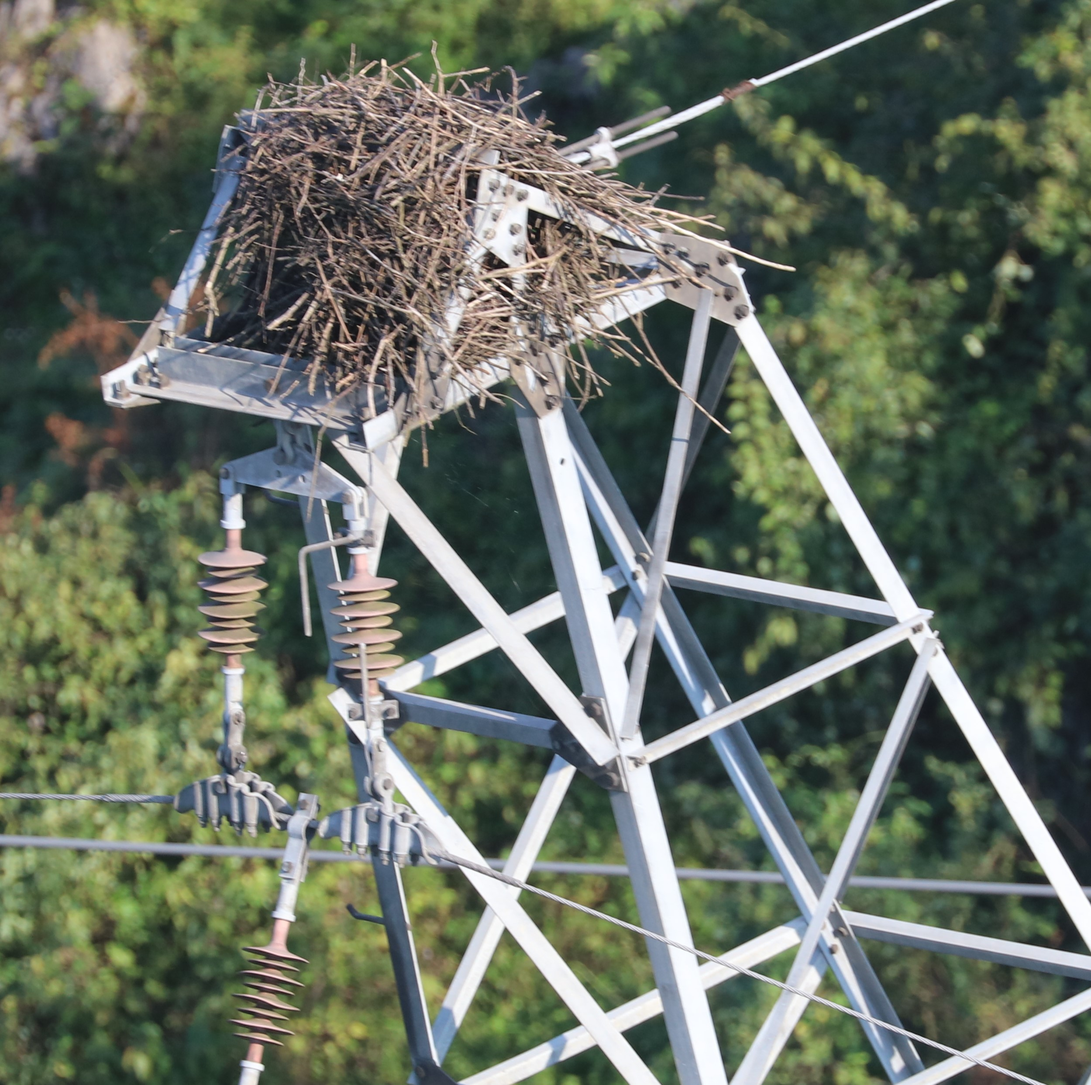nest: (199, 76, 690, 391)
